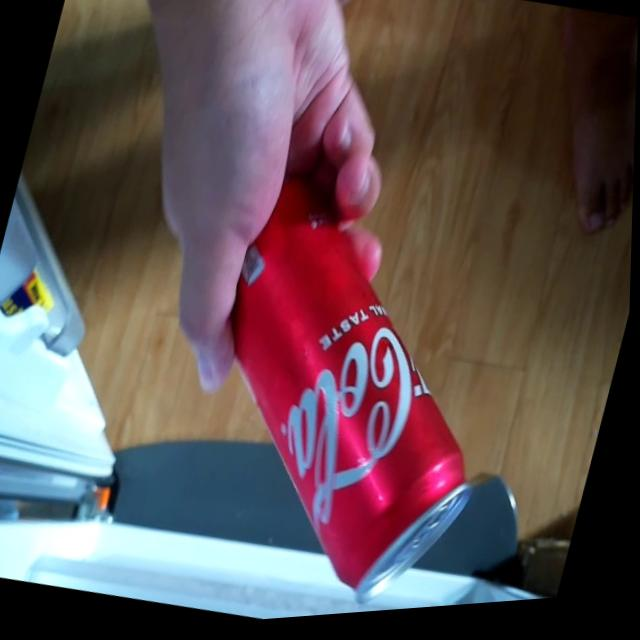coke: (147, 141, 561, 631)
